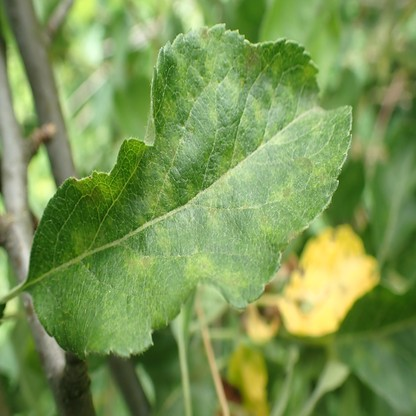scab: (74, 27, 342, 297)
